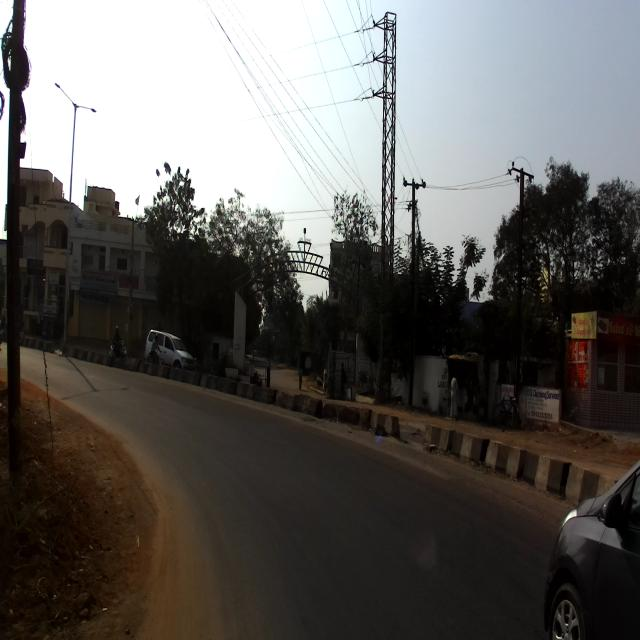electric pole ahead at: (1, 0, 38, 469)
